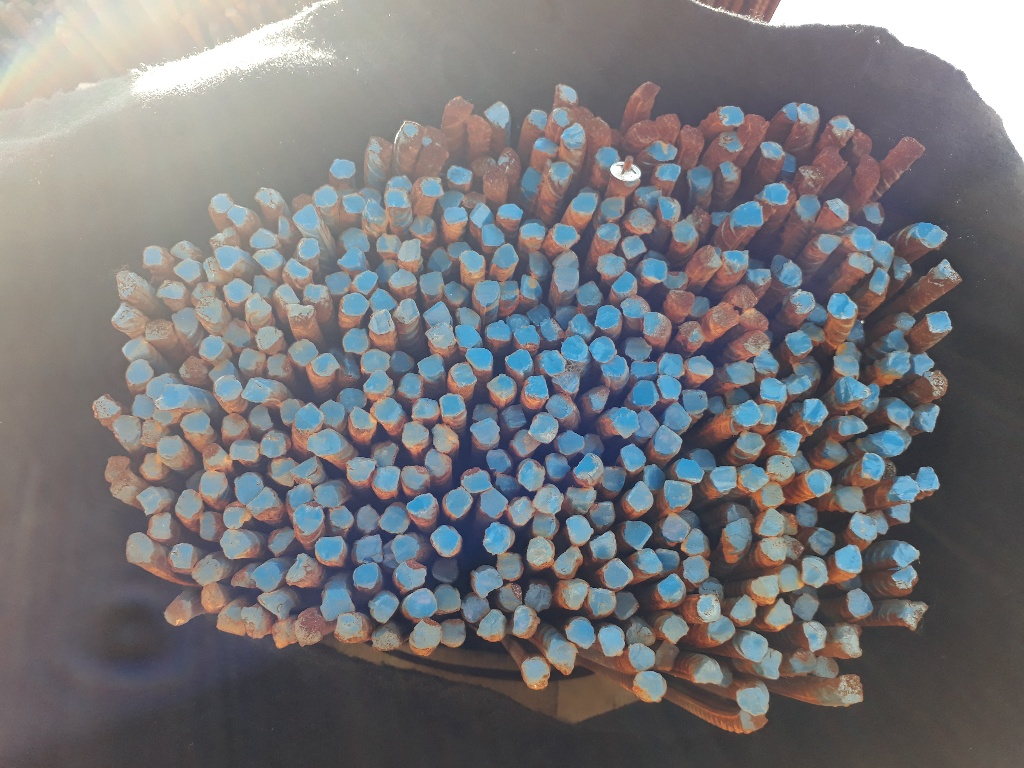dipstick: (705, 301, 740, 332), (153, 385, 190, 412), (222, 317, 254, 348), (833, 485, 867, 513), (442, 96, 474, 124), (732, 201, 765, 228), (110, 303, 140, 332), (737, 464, 768, 492), (914, 222, 947, 248), (294, 402, 324, 430), (841, 375, 872, 402), (847, 126, 873, 158), (923, 369, 949, 401), (178, 356, 206, 385), (627, 206, 655, 235), (798, 164, 826, 193), (892, 475, 921, 503), (804, 469, 832, 498), (849, 512, 878, 540), (288, 338, 318, 365), (201, 443, 231, 470), (795, 193, 822, 223), (91, 395, 121, 421), (733, 400, 763, 426), (174, 306, 199, 337), (360, 349, 391, 374), (757, 182, 790, 205), (854, 157, 881, 185), (829, 293, 857, 320), (320, 399, 346, 428), (728, 359, 757, 385), (144, 372, 174, 397), (241, 378, 271, 403), (220, 412, 250, 437), (222, 278, 253, 302), (727, 284, 759, 307), (126, 358, 153, 385), (112, 415, 139, 442), (483, 101, 511, 127), (641, 257, 669, 283), (173, 258, 202, 283), (900, 135, 929, 160), (144, 317, 174, 341), (181, 410, 211, 434), (739, 307, 769, 331), (115, 269, 137, 301), (198, 298, 224, 325), (259, 431, 286, 457), (823, 437, 849, 464), (803, 399, 829, 426), (612, 163, 640, 188), (598, 253, 626, 278), (886, 422, 911, 450), (823, 197, 852, 221), (783, 330, 812, 354), (645, 141, 678, 162), (720, 249, 751, 271), (426, 247, 452, 273), (600, 196, 626, 222), (860, 199, 886, 225), (491, 244, 518, 269), (818, 148, 845, 173), (886, 405, 913, 430), (753, 350, 780, 375), (338, 387, 366, 411), (371, 397, 399, 421), (552, 223, 580, 247), (830, 112, 854, 140), (938, 258, 962, 286), (767, 456, 795, 480), (364, 371, 393, 394), (717, 104, 746, 127), (872, 241, 895, 270), (860, 452, 883, 481), (861, 383, 880, 418), (838, 415, 868, 437), (310, 354, 341, 375), (891, 253, 912, 284), (398, 373, 423, 399), (885, 350, 910, 376), (711, 465, 736, 491), (341, 329, 368, 353), (367, 310, 394, 334), (789, 291, 816, 315), (255, 326, 283, 349), (341, 229, 369, 252), (365, 196, 388, 224), (497, 147, 520, 175), (520, 165, 543, 193), (780, 260, 803, 288), (917, 405, 940, 433), (231, 439, 260, 461), (369, 289, 398, 311), (252, 248, 282, 269), (633, 186, 663, 207), (216, 246, 241, 271), (293, 204, 318, 229), (266, 352, 291, 377), (687, 164, 712, 189), (851, 227, 876, 252), (865, 509, 890, 534), (199, 334, 225, 358), (246, 294, 272, 318), (214, 376, 240, 400), (680, 124, 704, 150), (743, 114, 769, 138), (926, 310, 952, 334), (745, 331, 771, 355), (880, 431, 904, 457), (325, 271, 352, 294), (423, 125, 446, 152), (673, 219, 696, 246), (778, 429, 801, 456), (735, 431, 762, 454), (157, 436, 185, 458), (484, 165, 506, 193), (569, 192, 597, 214), (799, 323, 828, 344), (131, 393, 155, 418), (193, 281, 218, 305), (686, 207, 710, 232), (885, 329, 910, 353), (252, 273, 275, 299), (352, 271, 378, 294), (400, 120, 423, 146), (466, 115, 492, 138), (833, 354, 859, 377), (916, 465, 939, 491), (690, 447, 716, 470), (279, 398, 301, 425), (635, 120, 662, 142), (658, 196, 680, 223), (620, 235, 647, 257), (250, 227, 278, 248), (284, 258, 312, 279), (238, 349, 266, 370), (141, 418, 162, 446), (120, 339, 149, 359), (249, 404, 273, 428), (374, 258, 397, 283), (460, 250, 485, 273), (761, 482, 784, 507), (337, 247, 363, 269), (210, 360, 237, 381), (846, 252, 873, 273), (868, 267, 888, 295), (226, 204, 249, 228), (696, 245, 720, 268), (913, 353, 936, 377), (331, 158, 356, 180), (367, 135, 392, 157), (384, 187, 410, 208), (375, 233, 401, 254), (759, 378, 785, 399), (389, 268, 416, 288), (783, 374, 810, 394), (166, 240, 194, 259), (342, 294, 370, 313), (255, 185, 278, 208), (314, 184, 337, 207), (482, 223, 505, 246), (297, 237, 321, 259), (276, 283, 300, 305), (468, 202, 490, 226), (562, 124, 586, 146), (759, 139, 783, 161), (351, 405, 372, 430), (594, 146, 619, 167), (657, 113, 682, 134), (833, 341, 862, 359), (209, 193, 235, 213), (159, 279, 185, 299), (409, 215, 435, 235), (446, 165, 472, 185), (655, 163, 681, 183), (815, 234, 841, 254), (417, 178, 444, 197), (518, 222, 545, 241), (420, 272, 442, 295), (555, 83, 578, 105), (797, 102, 820, 124), (636, 81, 660, 102), (717, 133, 744, 151), (441, 186, 463, 208), (526, 109, 548, 131), (549, 162, 573, 182), (746, 268, 774, 285), (462, 189, 487, 208), (596, 222, 621, 241), (288, 306, 317, 322), (143, 246, 165, 267), (399, 239, 420, 261), (718, 161, 740, 182), (303, 282, 326, 302), (496, 204, 523, 221), (446, 240, 473, 257), (470, 157, 494, 176), (150, 410, 176, 427), (889, 502, 910, 523), (343, 193, 365, 213), (893, 311, 915, 331), (444, 206, 467, 225), (385, 174, 410, 191), (534, 137, 559, 154), (359, 186, 382, 204), (551, 107, 571, 127), (756, 404, 775, 425), (665, 271, 688, 288), (779, 102, 798, 121), (850, 321, 867, 342), (710, 209, 732, 225), (781, 151, 797, 173), (278, 217, 291, 241)
